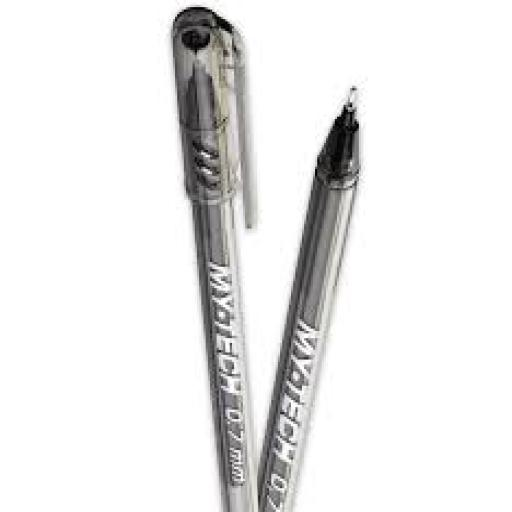tukenmez-kalem: (152, 0, 420, 396)
